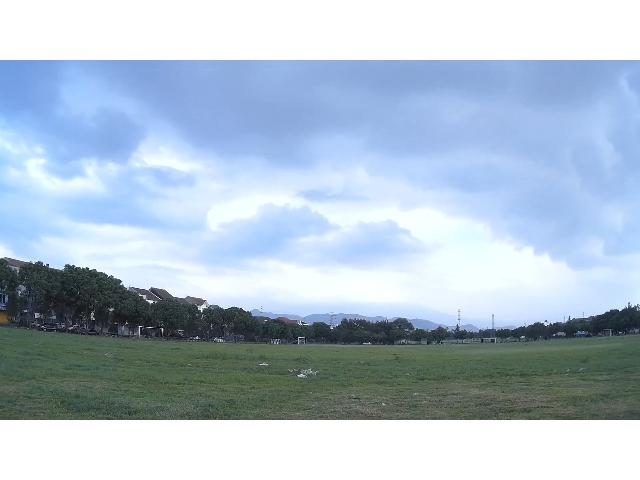Anti-Drone: (350, 320, 364, 328)
